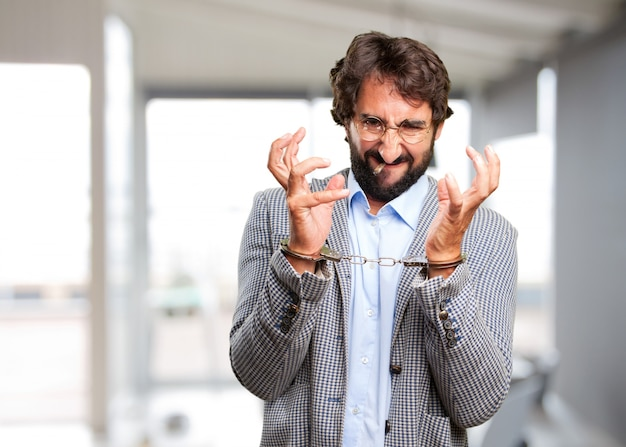cigarette: (371, 159, 386, 176)
